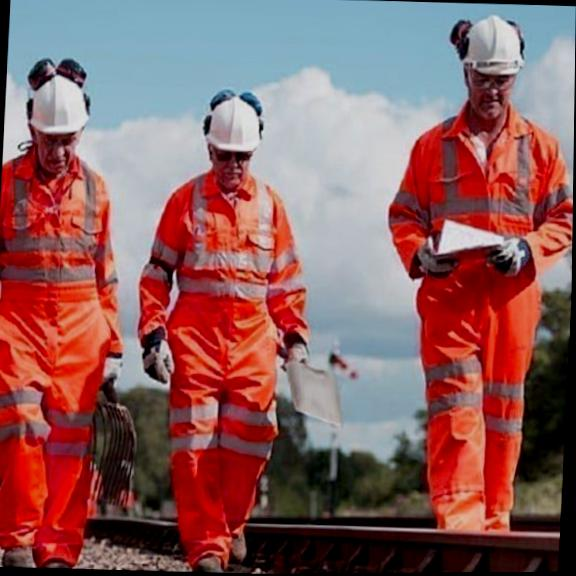safety_vest: (419, 105, 552, 378), (162, 175, 285, 427), (0, 159, 113, 409)
